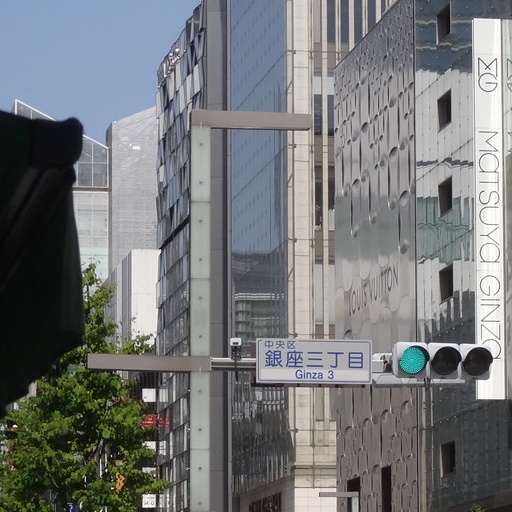Traffic_Signal_Blue: (389, 332, 495, 389)
